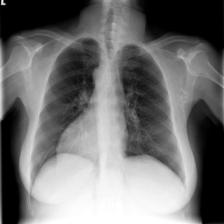normal: (28, 31, 188, 199)
